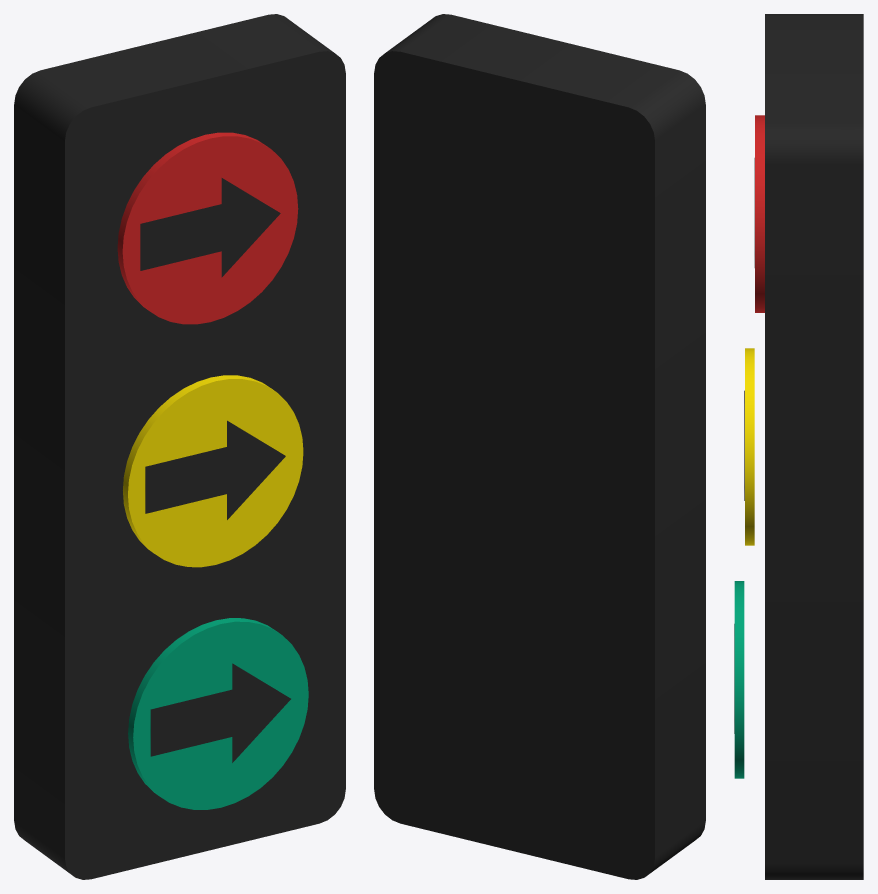
3 views of the same model, side by side, from view 1: azimuth 30°, elevation 25°; view 2: azimuth 150°, elevation 25°; view 3: azimuth 270°, elevation 25° (orthographic). The views are drawn at different scales.
Parts seen in each view (by area): view 1: R14td_r00, R14td_d250, R14td_d302, R14td_d276, R14td_s327, R14td_s275, R14td_s301; view 2: R14td_r00; view 3: R14td_r00, R14td_d302, R14td_d250, R14td_d276.
Part boxes in pixels (left/top/right/bottom): R14td_r00: left=14, top=14, right=345, bottom=879; R14td_d250: left=117, top=132, right=298, bottom=324; R14td_d302: left=128, top=618, right=308, bottom=809; R14td_d276: left=123, top=375, right=303, bottom=567; R14td_s327: left=150, top=663, right=290, bottom=762; R14td_s275: left=140, top=178, right=280, bottom=277; R14td_s301: left=145, top=420, right=285, bottom=519; R14td_r00: left=374, top=14, right=705, bottom=879; R14td_r00: left=765, top=14, right=863, bottom=879; R14td_d302: left=734, top=581, right=744, bottom=778; R14td_d250: left=755, top=115, right=764, bottom=312; R14td_d276: left=745, top=348, right=754, bottom=545.
Bounding box in the file's own units: 0.32 × 0.84 × 0.1312.
